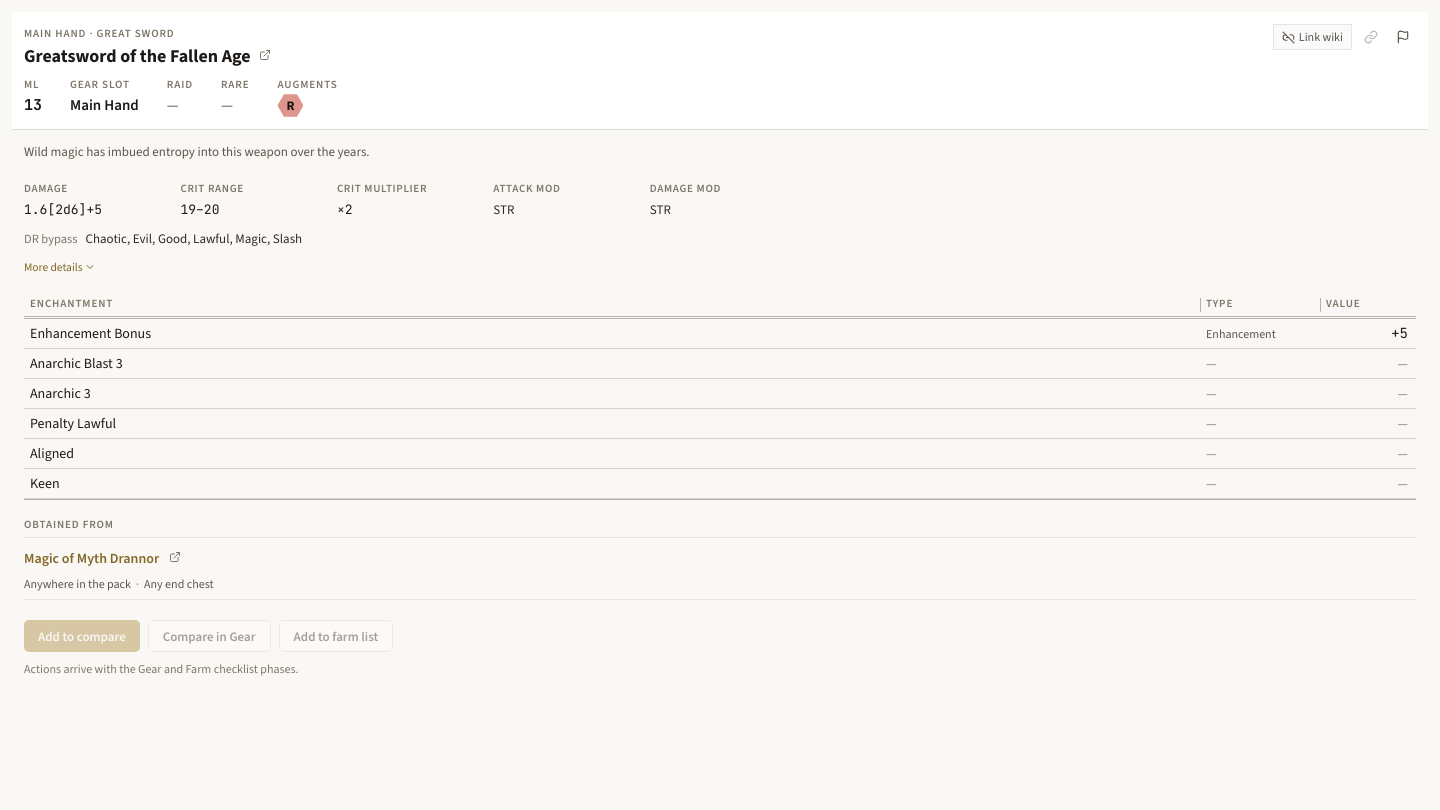
Test case: ItemDetailCard details › shows mapped weapon modifiers as hinted facts and keeps DR bypass visible outside extras
expect the text "STR" is shown 2 times: met, box 493,201 -> 514,218; 650,201 -> 671,218
expect the element with class "detail-dr-bypass" reads "DR bypass Chaotic, Evil, Good, Lawful, Magic, Slash": met, box 24,230 -> 302,247
Click the button "More details" at (60, 267), box 22,257 -> 98,277
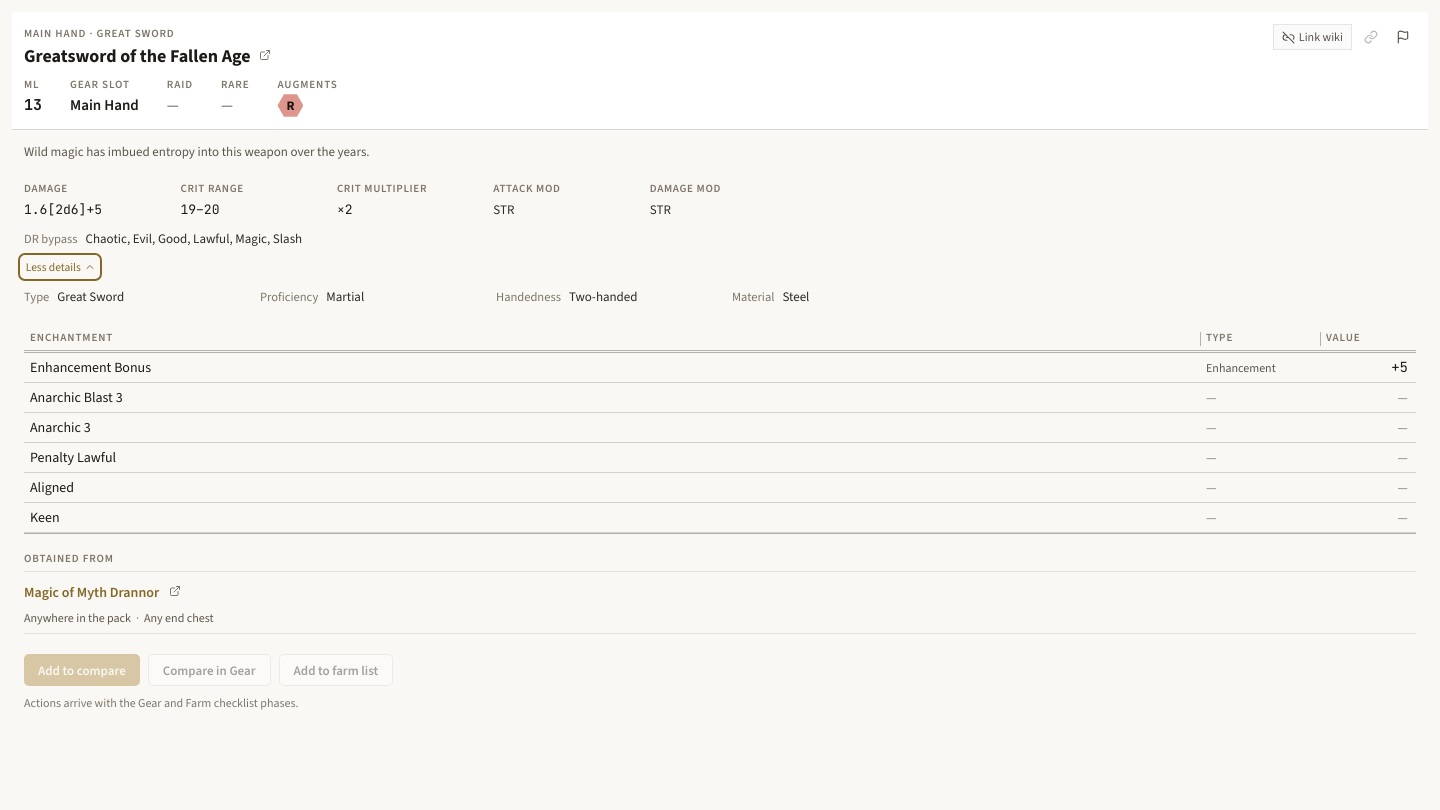
expect the element with class "detail-extras" does not show "DR bypass": met, box 24,288 -> 809,305
expect the button "Less details" is shown: met, box 22,257 -> 98,277
